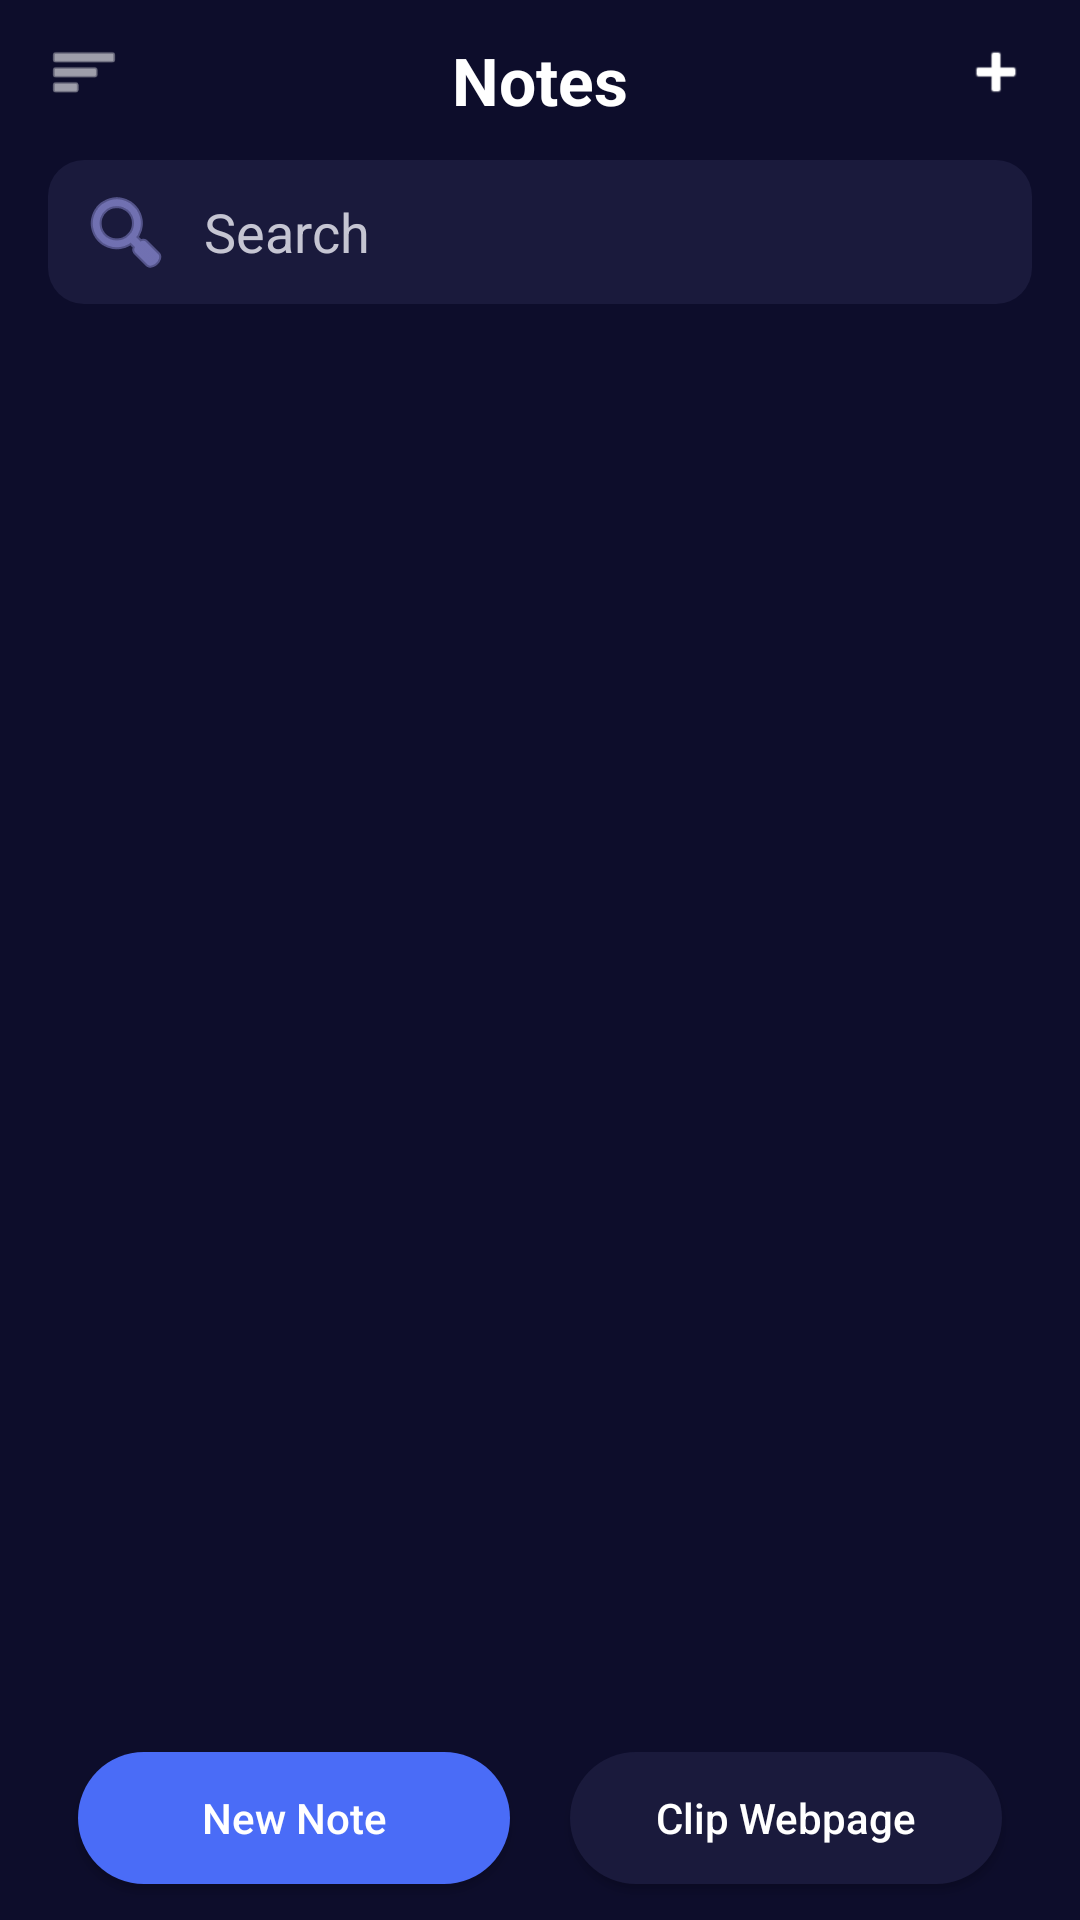

Icons on this 1080px x 1920px Android screen, each with the point to tap as (x=x, y=y):
add: (x=996, y=72)
sort by size: (x=84, y=72)
